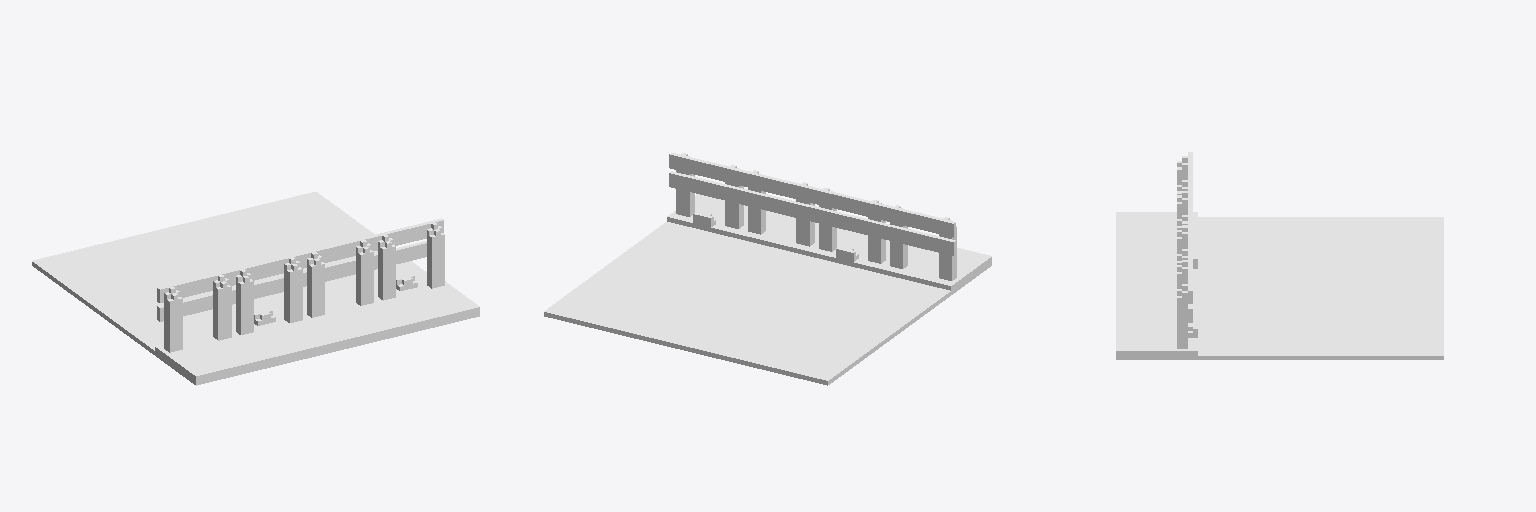
File: Tutorialmap_V2_unfinished-58.obj
3 views of the same model, side by side, from view 1: azimuth 30°, elevation 25°; view 2: azimuth 150°, elevation 25°; view 3: azimuth 270°, elevation 25° (orthographic).
Parts seen in each view (by area): view 1: object 1; view 2: object 1; view 3: object 1.
Part boxes in pixels (x1,y1,x2,y2): object 1: (32, 192, 479, 385); object 1: (544, 153, 991, 385); object 1: (1116, 152, 1443, 359).
Bounding box in the file's own units: 6.4 × 1.5 × 6.4.